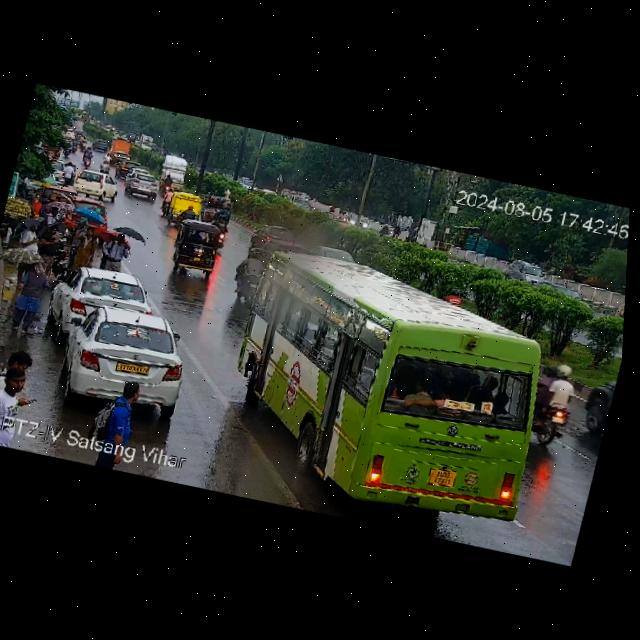bus: (210, 250, 566, 536)
car: (34, 296, 200, 415), (49, 261, 156, 335), (168, 221, 228, 280), (68, 168, 123, 202), (162, 189, 209, 223), (302, 244, 356, 266), (121, 176, 162, 202), (90, 136, 112, 154)
motorcycle: (528, 363, 580, 444), (57, 135, 98, 168), (97, 153, 115, 175), (160, 176, 175, 194)
person: (81, 381, 150, 474), (7, 254, 54, 337), (56, 207, 111, 271), (0, 360, 43, 426), (97, 226, 132, 270), (32, 227, 62, 273), (12, 217, 43, 256), (6, 346, 38, 374), (40, 199, 65, 229)
truck: (138, 133, 156, 152)
